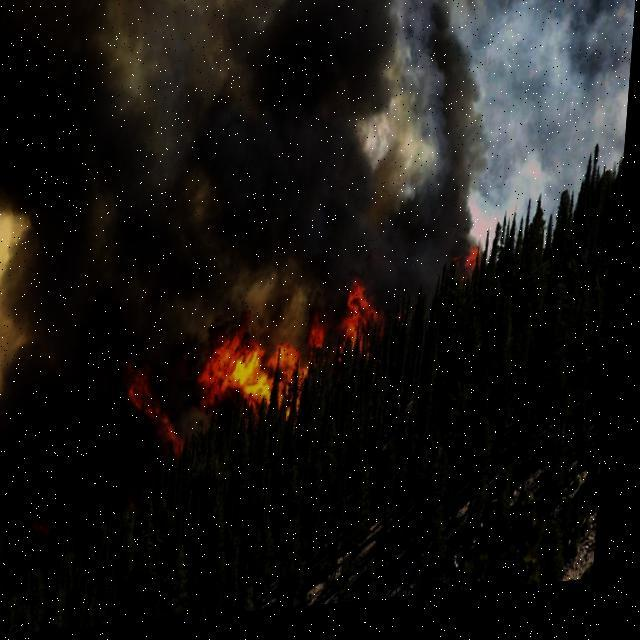Fire: (117, 265, 410, 462), (452, 243, 496, 309)
